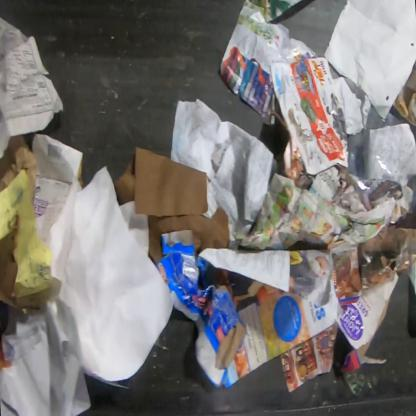cardboard: (157, 229, 265, 390), (336, 271, 400, 375), (31, 132, 85, 244), (0, 219, 44, 310), (0, 134, 38, 204), (238, 0, 304, 25), (392, 58, 415, 128)
soft_plastic: (331, 76, 407, 212)
